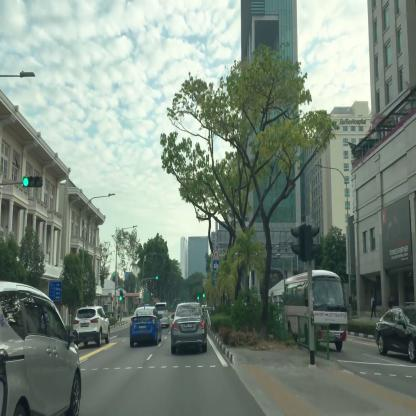green_traffic_light: (21, 175, 43, 186)
